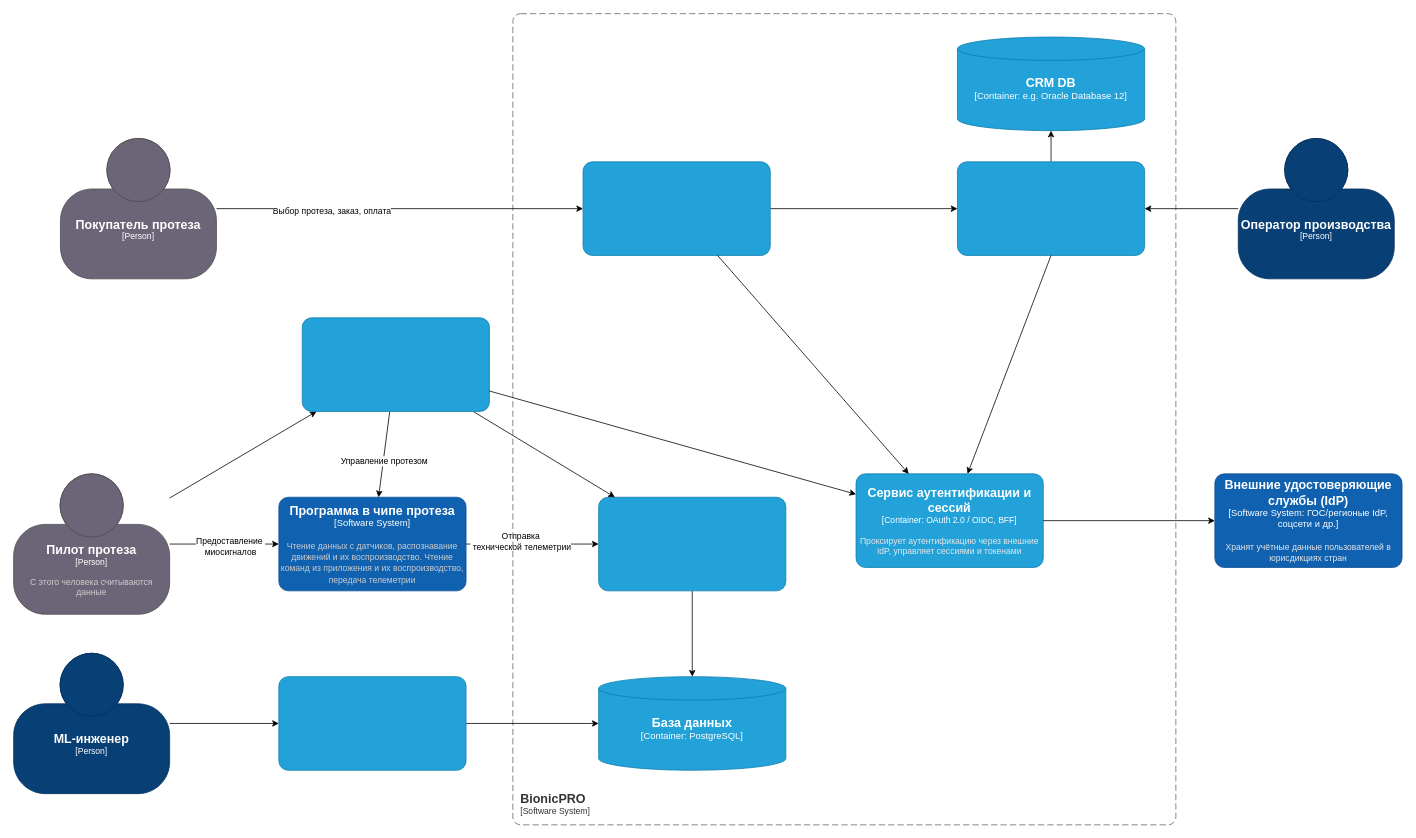
This 1416x838 diagram has some shape labels left out. The shapes that lost their labels are listed below. From the top down, each one's box as (x1, y1, x2, y2) in pixels, then its label:
(582, 161, 770, 255): Интернет-магазин [Container: Битрикс24]
(957, 161, 1145, 255): CRM [Container: Битрикс24]
(301, 317, 489, 411): Приложение для донастройки протеза [Container: iOD, Android]
(598, 496, 786, 591): API [Container: e.g. SpringBoot, ElasticSearch, etc.]
(278, 676, 466, 770): cli tool [Container: e.g. SpringBoot, ElasticSearch, etc.]
